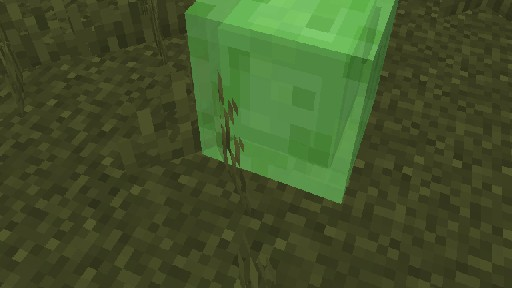slime: (183, 0, 407, 204)
